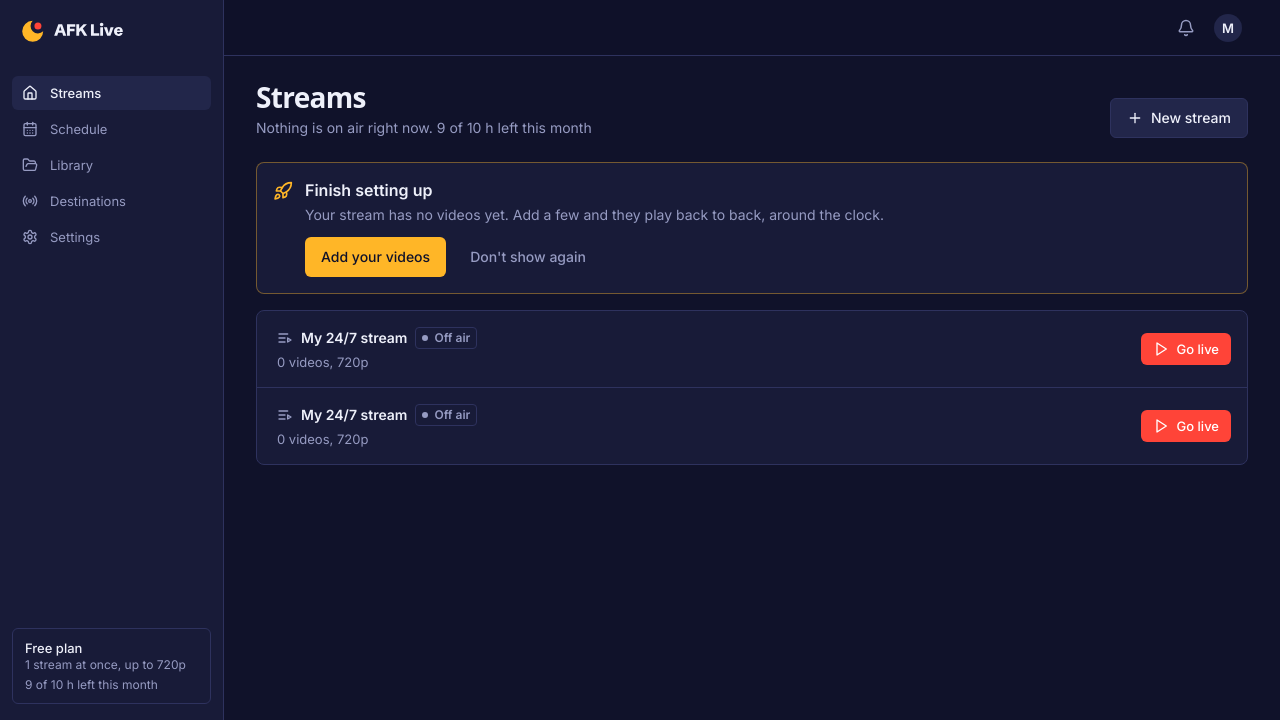
Test case: Finish setting up (ON-9) › says the stream has no videos yet and resumes setup at that step; hiding it is saved for the account
Expected: the text "Your stream has no videos yet" is shown, [305, 206, 884, 223]
Click the button "Don't show again" at point(528, 257), box [454, 237, 602, 277]
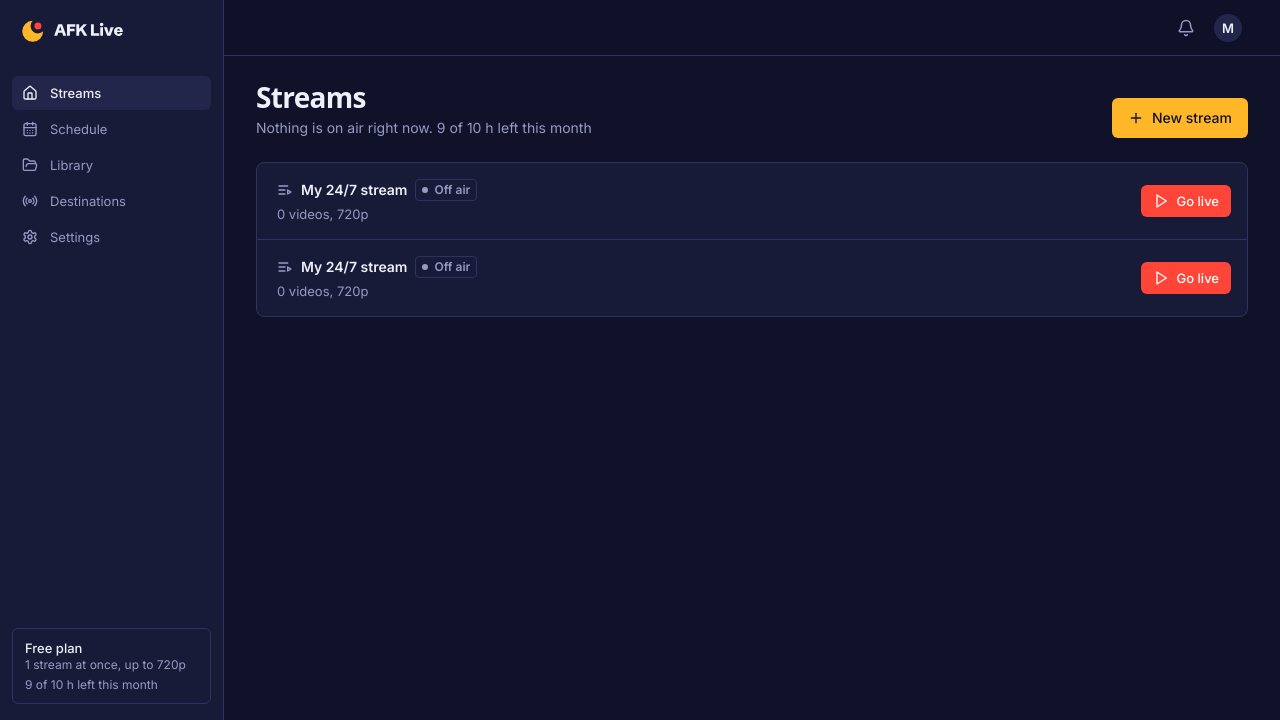
Expected: the heading "Finish setting up" is gone
